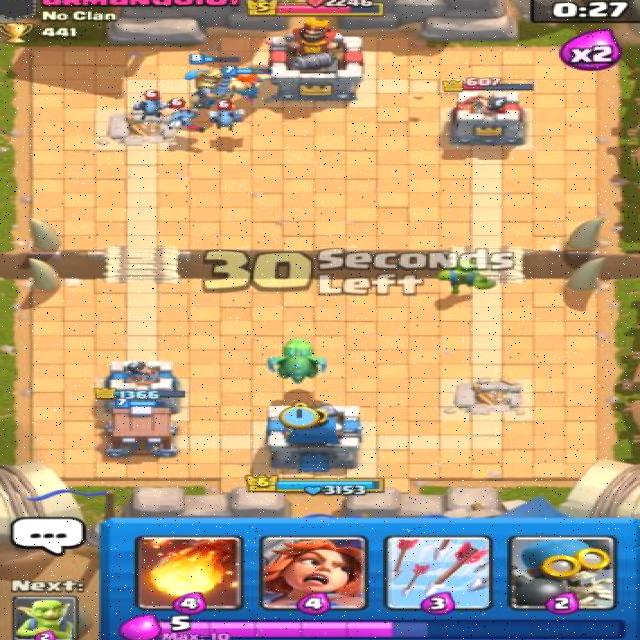Enemy-Minion: (154, 97, 205, 134), (128, 86, 171, 122), (205, 101, 248, 132)
Player-BabyDragon: (263, 335, 335, 387)
Player-Brawler: (430, 263, 500, 298)
Player-GoblinCage: (95, 398, 188, 460)
Player-Prince: (187, 53, 245, 112)
Player-Valkyrie: (221, 63, 268, 105)
